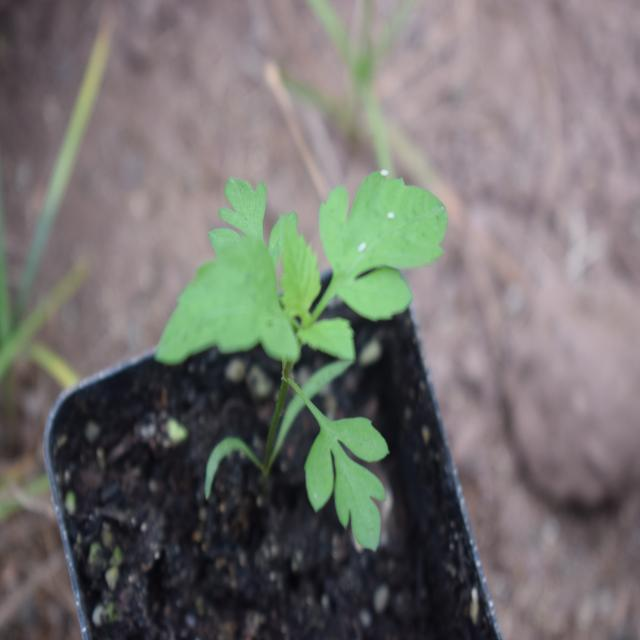Bidens pilosa: (150, 151, 447, 553)
